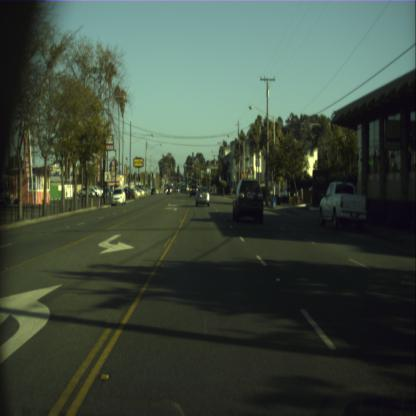Red: (184, 162, 186, 168), (192, 165, 194, 170)
